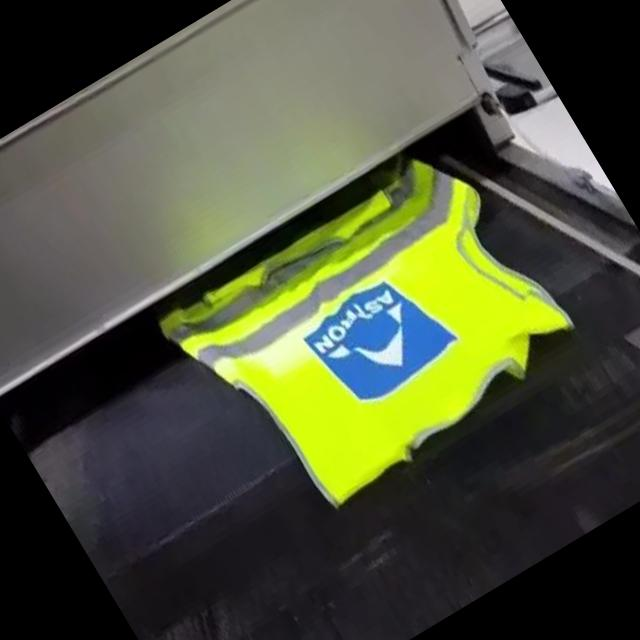safety_vest: (152, 132, 597, 542)
